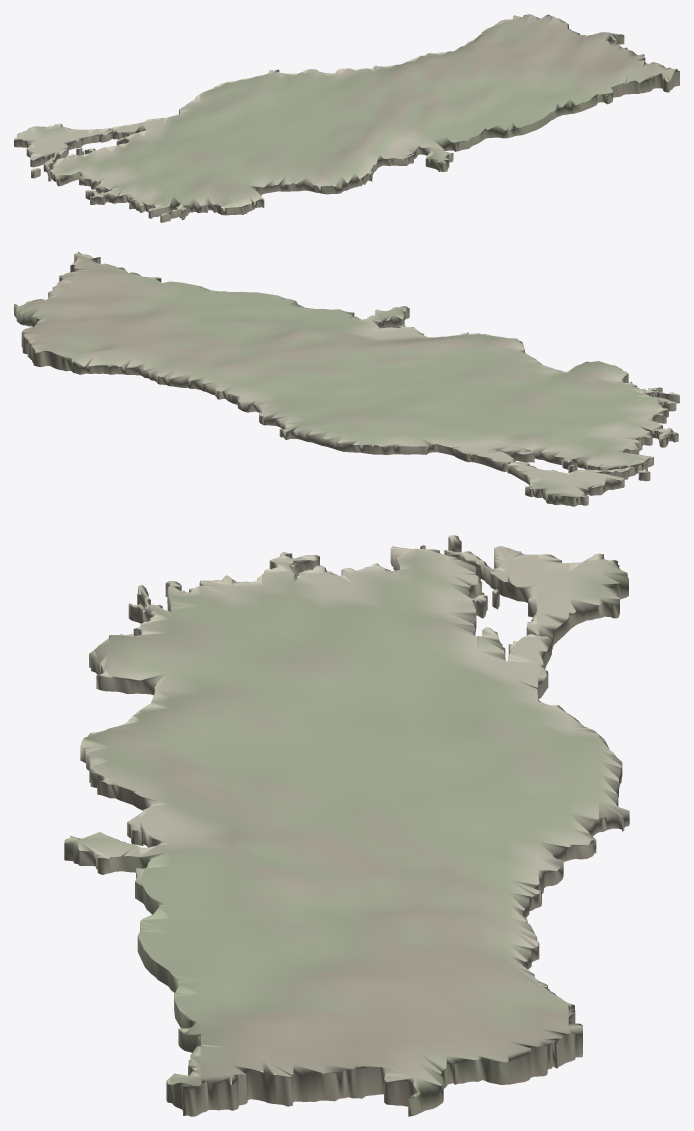
The model's file is tr-mobile.glb.
The picture shows the model from 3 angles, top to bottom: view 1: azimuth 30°, elevation 25°; view 2: azimuth 150°, elevation 25°; view 3: azimuth 270°, elevation 25°; orthographic projection. The views are drawn at different scales.
Bounding box in the file's own units: 99.84 × 2.63 × 41.99.
